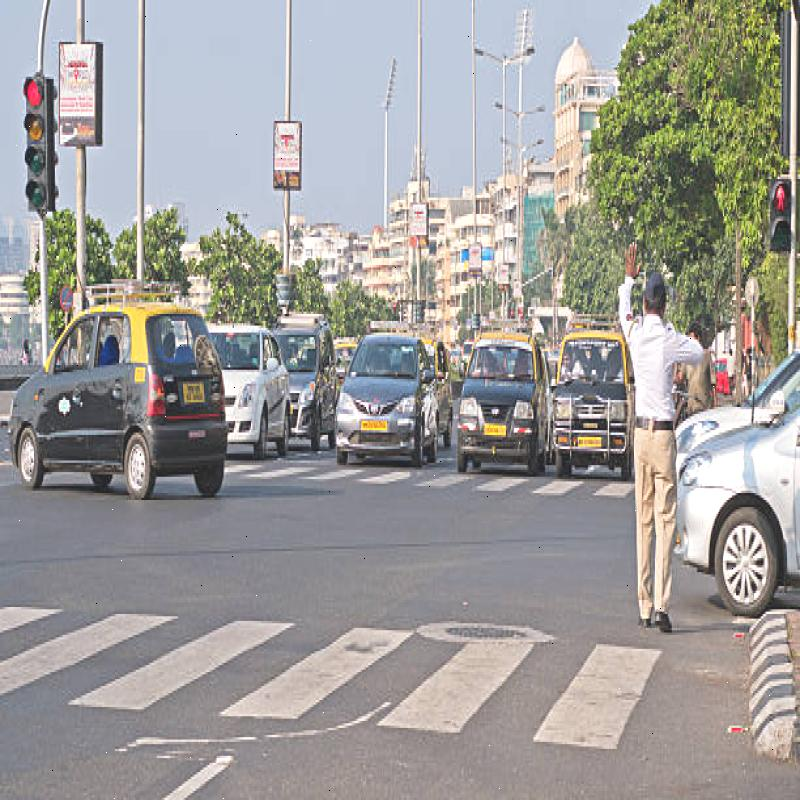car: (10, 281, 225, 510), (681, 358, 800, 630), (336, 314, 439, 487), (541, 316, 638, 485), (220, 308, 288, 462), (285, 279, 344, 453)
